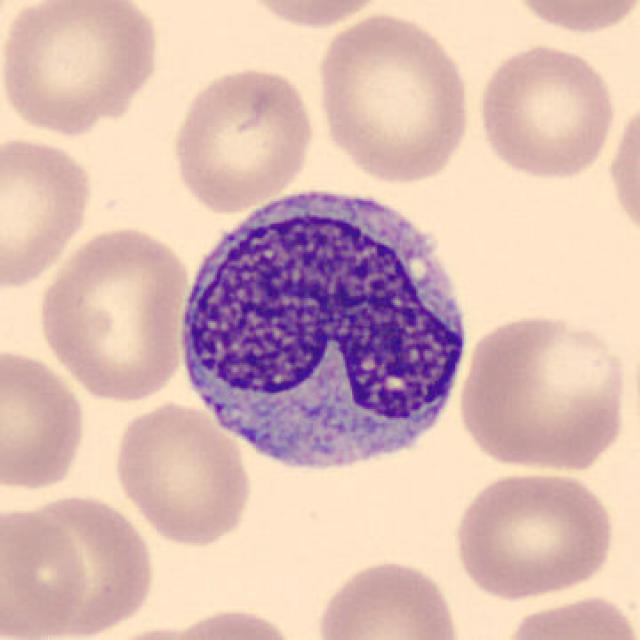Monocyte: (169, 173, 476, 488)
RBC: (453, 309, 631, 476), (311, 9, 477, 187), (34, 222, 194, 404), (448, 467, 620, 603), (167, 62, 318, 215), (0, 0, 164, 138), (108, 398, 254, 548), (473, 38, 620, 182), (0, 132, 96, 293), (0, 344, 89, 494), (311, 555, 466, 640), (0, 504, 91, 640), (499, 589, 636, 640), (604, 92, 640, 248), (233, 0, 395, 32), (501, 0, 640, 37), (167, 604, 304, 640), (86, 624, 220, 640)
